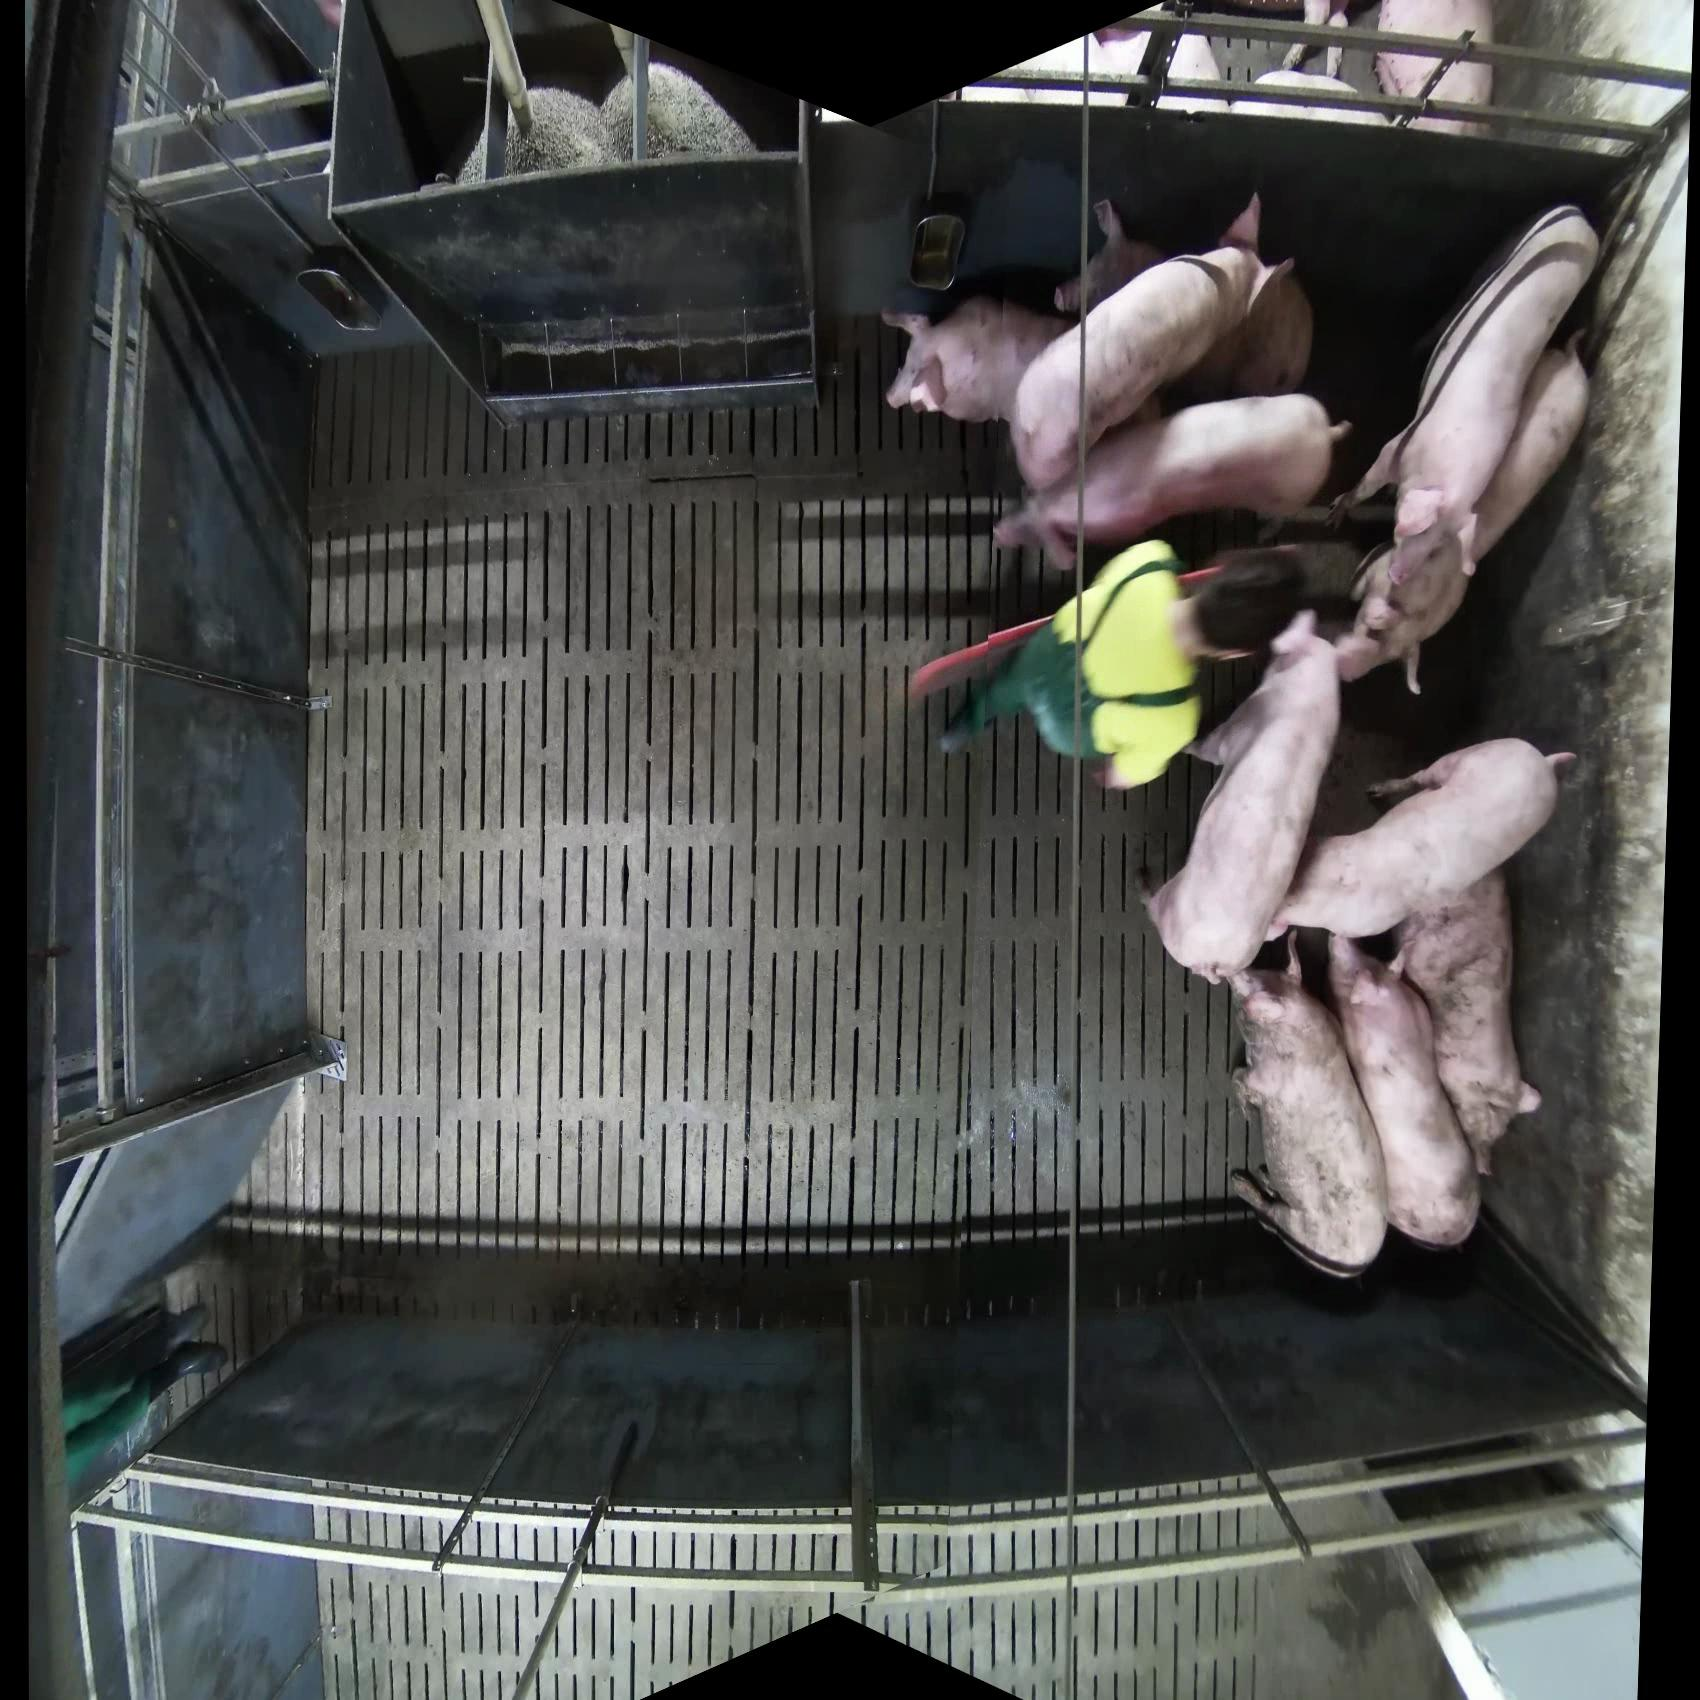pig: (1265, 736, 1577, 1180), (1330, 201, 1602, 696), (1010, 191, 1315, 493), (1142, 610, 1344, 985), (991, 391, 1354, 573), (1263, 736, 1577, 941), (1224, 935, 1390, 1281), (1325, 930, 1485, 1251), (1390, 863, 1543, 1178), (1248, 1, 1498, 137), (1465, 325, 1595, 570), (880, 292, 1076, 426), (1174, 540, 1366, 662), (1178, 255, 1315, 403), (1373, 1, 1497, 137), (1053, 197, 1172, 319), (1087, 23, 1228, 116), (1231, 67, 1387, 126)
worker: (907, 534, 1312, 794)
